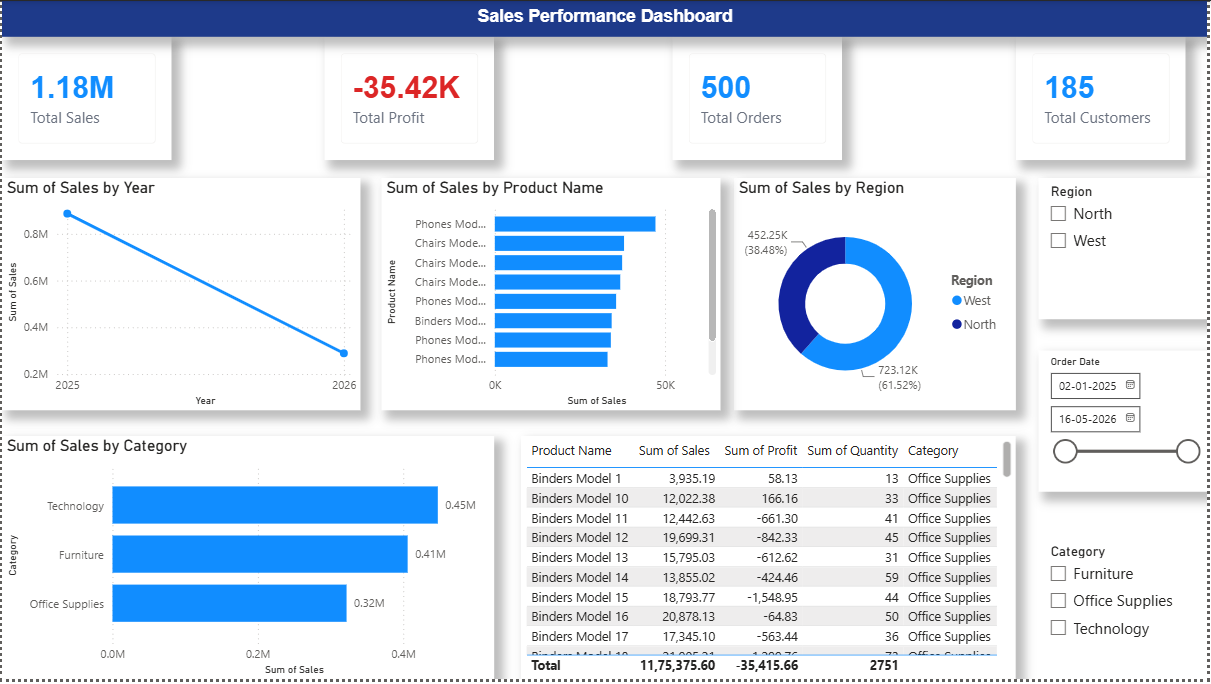

Layout of this report page (visuals, bound fields, positions):
{"tool":"powerbi","page":{"name":"Sales Performance Dashboard","canvas":[1280,720],"ordinal":0},"visuals":[{"type":"cardVisual","fields":{"Data":["Sheet.Total Sales"]},"box":[0,38.2,180,130.6],"z":0},{"type":"cardVisual","fields":{"Data":["Sheet.Total Profit"]},"box":[342.5,38.2,180,130.6],"z":1000},{"type":"cardVisual","fields":{"Data":["Sheet.Total Orders"]},"box":[712,38.2,180,130.6],"z":2000},{"type":"cardVisual","fields":{"Data":["Sheet.Total Customers"]},"box":[1076.8,38.2,180,130.6],"z":3000},{"type":"lineChart","fields":{"Category":["Sheet.Order Date.Variation.Date Hierarchy.Year","Sheet.Order Date.Variation.Date Hierarchy.Quarter","Sheet.Order Date.Variation.Date Hierarchy.Month","Sheet.Order Date.Variation.Date Hierarchy.Day"],"Y":["Sum(Sheet.Sales)"]},"box":[0,188,380.7,246.9],"z":4000},{"type":"clusteredBarChart","fields":{"Category":["Sheet.Category"],"Y":["Sum(Sheet.Sales)"]},"box":[0,461.9,522.5,258.1],"z":5000},{"type":"donutChart","fields":{"Category":["Sheet.Region"],"Y":["Sum(Sheet.Sales)"]},"box":[777.3,188,299.5,246.9],"z":6000},{"type":"clusteredBarChart","fields":{"Category":["Sheet.Product Name"],"Y":["Sum(Sheet.Sales)"]},"box":[403,188,360,246.9],"z":7000},{"type":"tableEx","fields":{"Values":["Sheet.Product Name","Sum(Sheet.Sales)","Sum(Sheet.Profit)","Sum(Sheet.Quantity)","Sheet.Category"]},"box":[551.2,461.9,525.7,258.1],"z":8000},{"type":"slicer","fields":{"Values":["Sheet.Category"]},"box":[1100.7,570.3,180,149.7],"z":9000},{"type":"slicer","fields":{"Values":["Sheet.Region"]},"box":[1100.7,188,180,149.7],"z":10000},{"type":"slicer","fields":{"Values":["Sheet.Order Date"]},"box":[1100.7,371.2,180,149.7],"z":11000},{"type":"textbox","box":[0,0,1280.7,38.2],"z":12000}]}

Visuals, with their boxes in screenshot pixels (x1, y1, x2, y2), scaled from the page's 1280x720 canvas onto the 1211x684 screenshot:
cardVisual - Sheet.Total Sales: left=0, top=36, right=170, bottom=160
cardVisual - Sheet.Total Profit: left=324, top=36, right=494, bottom=160
cardVisual - Sheet.Total Orders: left=674, top=36, right=844, bottom=160
cardVisual - Sheet.Total Customers: left=1019, top=36, right=1189, bottom=160
lineChart - Sheet.Order Date.Variation.Date Hierarchy.Year x Sheet.Order Date.Variation.Date Hierarchy.Quarter: left=0, top=179, right=360, bottom=413
clusteredBarChart - Sheet.Category x Sum(Sheet.Sales): left=0, top=439, right=494, bottom=683
donutChart - Sheet.Region x Sum(Sheet.Sales): left=735, top=179, right=1019, bottom=413
clusteredBarChart - Sheet.Product Name x Sum(Sheet.Sales): left=381, top=179, right=722, bottom=413
tableEx - Sheet.Product Name x Sum(Sheet.Sales): left=521, top=439, right=1019, bottom=683
slicer - Sheet.Category: left=1041, top=542, right=1210, bottom=683
slicer - Sheet.Region: left=1041, top=179, right=1210, bottom=321
slicer - Sheet.Order Date: left=1041, top=353, right=1210, bottom=495
textbox: left=0, top=0, right=1210, bottom=36
